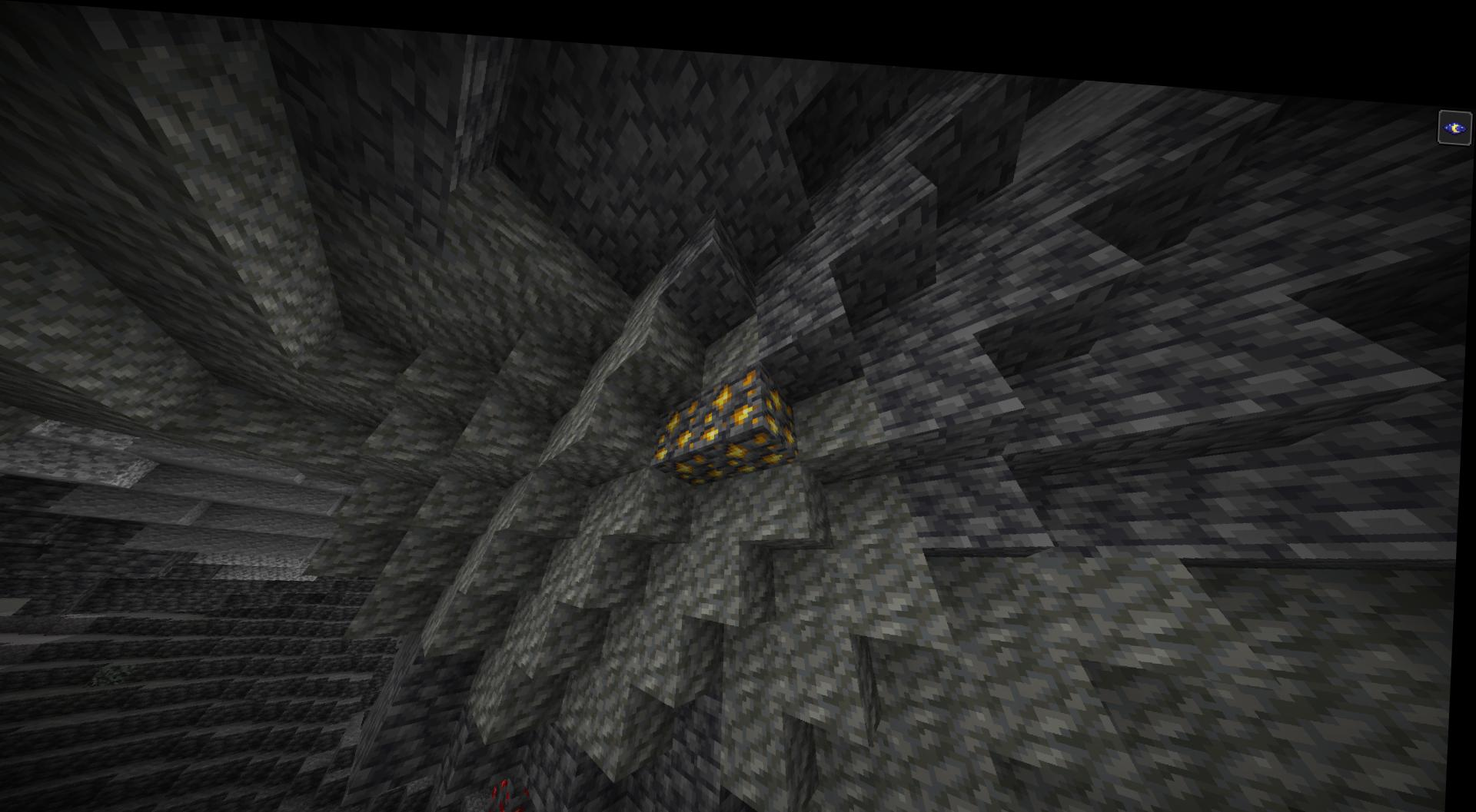gold ore: (671, 426, 788, 477), (700, 353, 762, 436), (764, 366, 805, 440), (658, 394, 701, 445)
redstone ore: (496, 764, 540, 812)
